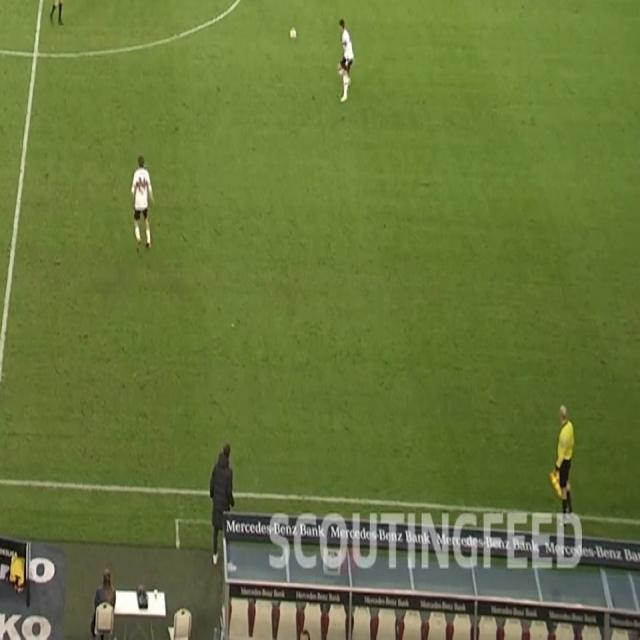ball: (289, 26, 298, 43)
